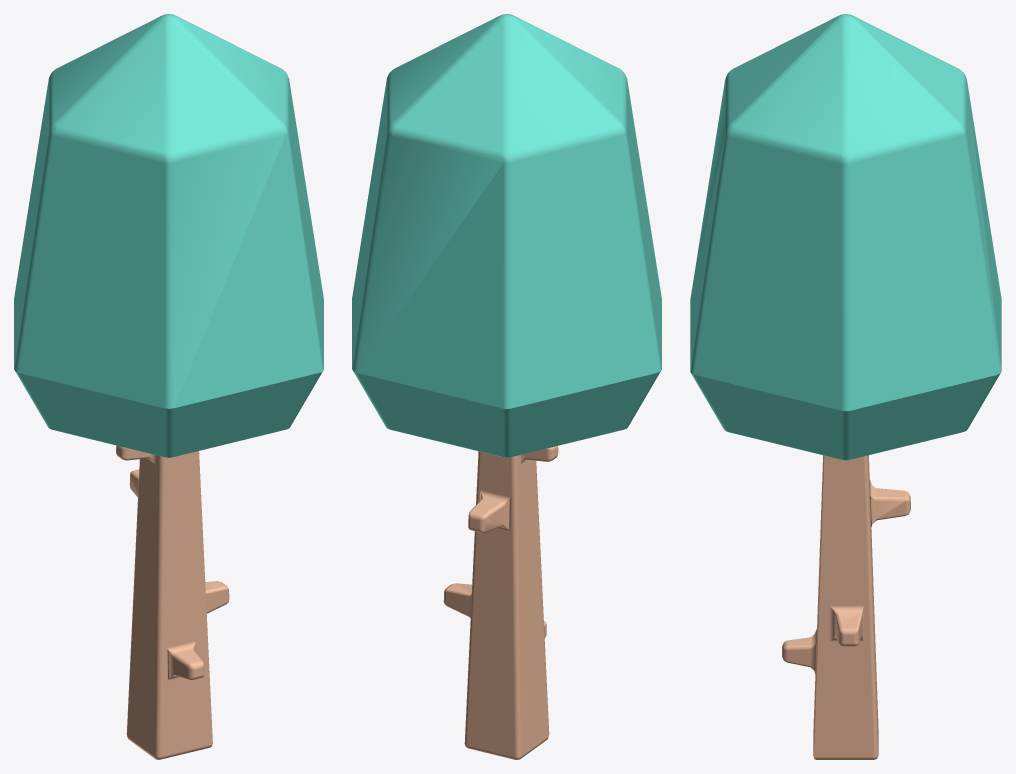
The model's file is tree_default.glb.
3 renders of one model, left to right at view 1: azimuth 30°, elevation 25°; view 2: azimuth 150°, elevation 25°; view 3: azimuth 270°, elevation 25°, orthographic.
Visible parts, largest first — view 1: tree_default; view 2: tree_default; view 3: tree_default.
Part boxes in pixels (<box>): tree_default: <box>14,14,323,759</box>; tree_default: <box>352,14,661,759</box>; tree_default: <box>690,14,1001,759</box>.
Bounding box in the file's own units: 0.7487 × 1.7 × 0.6538.
